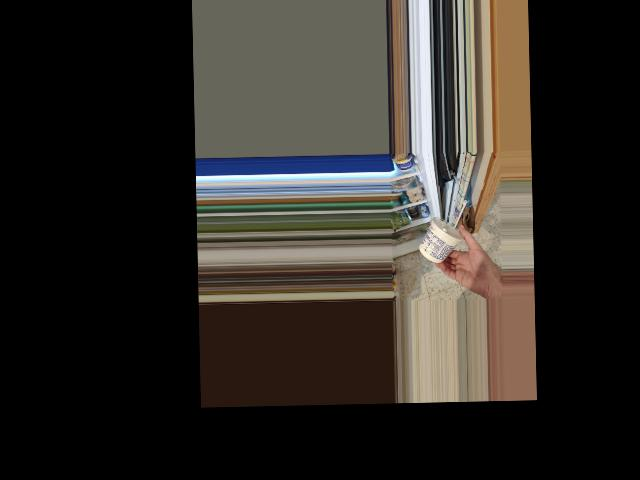cotage: (423, 214, 464, 265)
